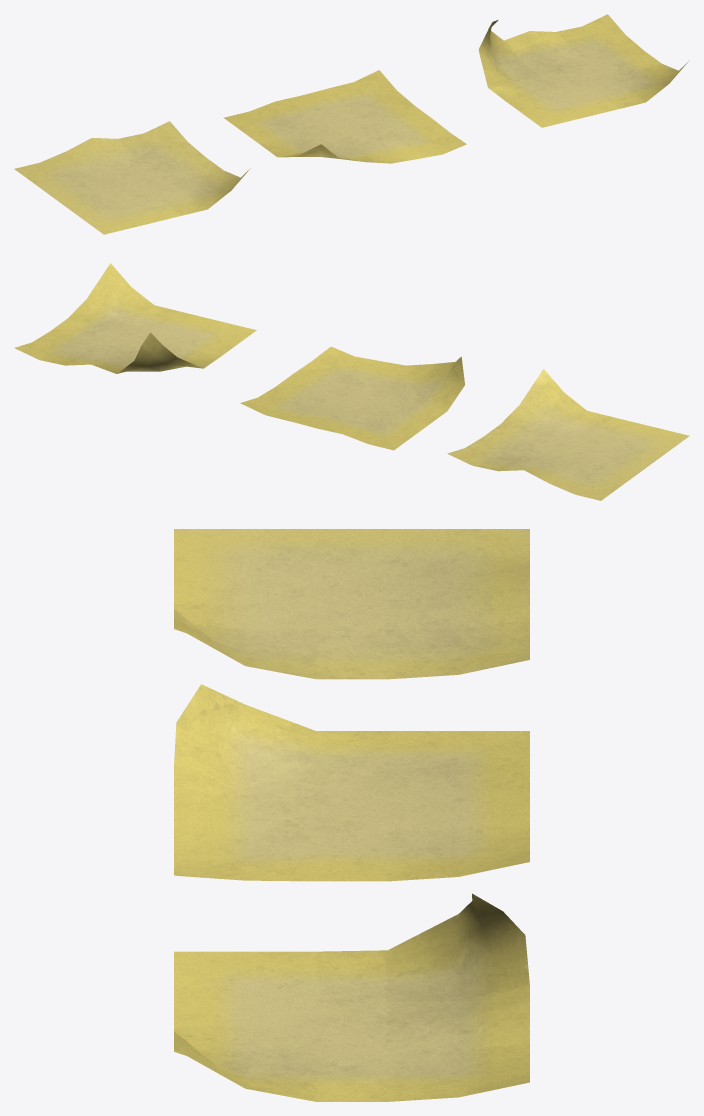
The model's file is stickynote.fbx.
The picture shows the model from 3 angles, top to bottom: view 1: azimuth 30°, elevation 25°; view 2: azimuth 150°, elevation 25°; view 3: azimuth 270°, elevation 25°; orthographic projection. The views are drawn at different scales.
Parts seen in each view (by area): view 1: Object_4, Object_10, Object_8; view 2: Object_4, Object_8, Object_10; view 3: Object_8, Object_10, Object_4.
Boxes of the visible parts, x1,y1,x2,y2 form: Object_4: (14,121,250,234); Object_10: (478,14,689,127); Object_8: (223,70,466,163); Object_4: (447,369,689,500); Object_8: (240,346,464,450); Object_10: (14,263,256,373); Object_8: (174,684,529,881); Object_10: (174,893,529,1101); Object_4: (174,529,529,679).
Size of the model in its own units: 28.96 by 2.22 by 7.6.
1 material, 1 textured.
